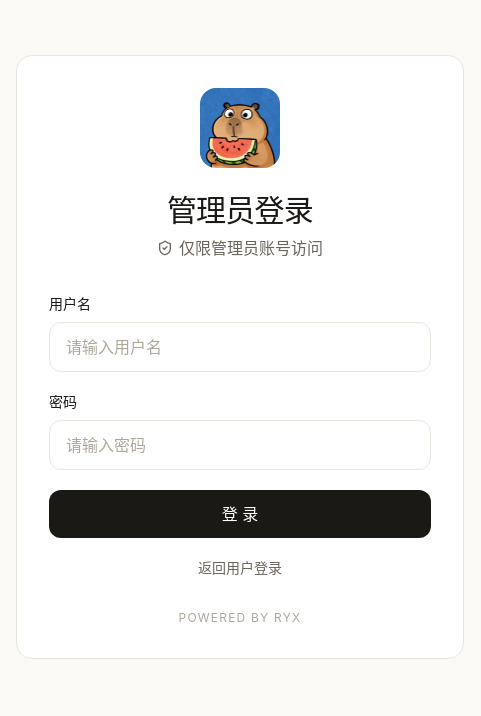
Test case: Login 組件 › 管理入口拒绝非管理员时只显示通用密码错误
Type "ordinary-user" into the field labelled "用户名". click: (240, 347)
box: [49,322,431,372]
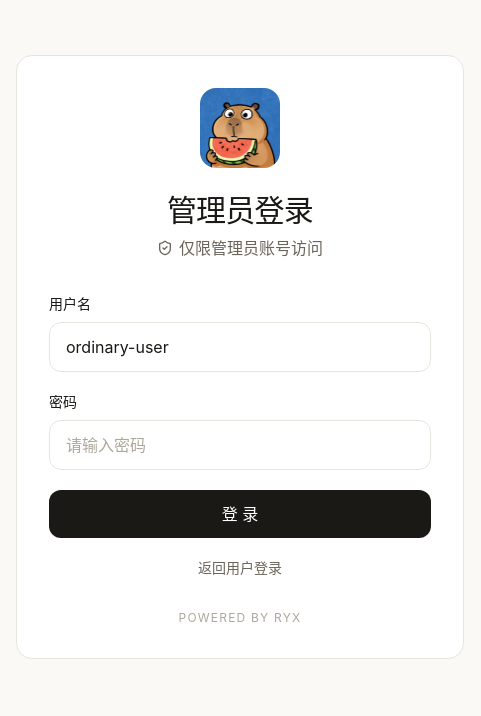
Type "correct-pass" into the password field labelled "密码". click: (240, 445)
box: [49,420,431,470]
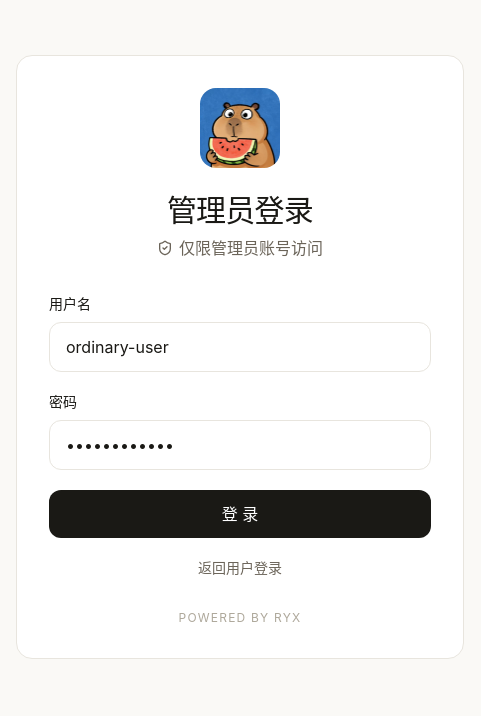
Click the button "登 录". click: (240, 514)
box: [49,490,431,538]
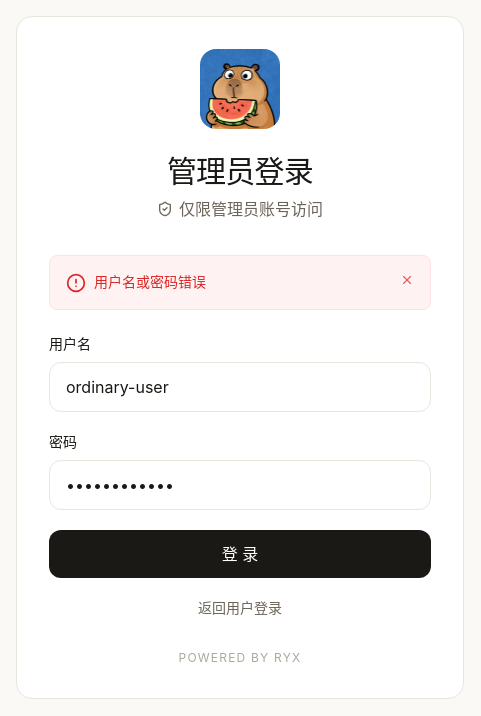
Check: the text "用户名或密码错误" is shown, box [94,272,206,290]
